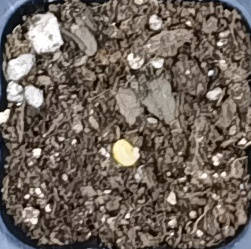pepper seed: (40, 55, 182, 223)
